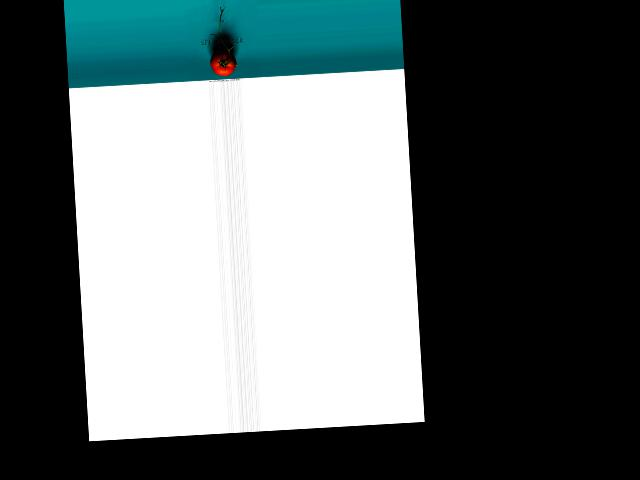tomato: (210, 49, 237, 76)
